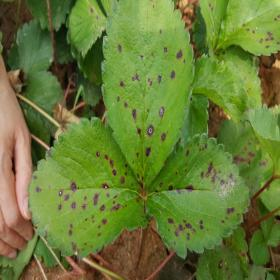Leaf Spot: (100, 0, 195, 192), (26, 114, 149, 261), (144, 133, 251, 261), (216, 117, 275, 198), (206, 0, 279, 56), (208, 45, 263, 110), (68, 0, 107, 60), (198, 244, 244, 279), (190, 0, 217, 59), (223, 226, 249, 279)
